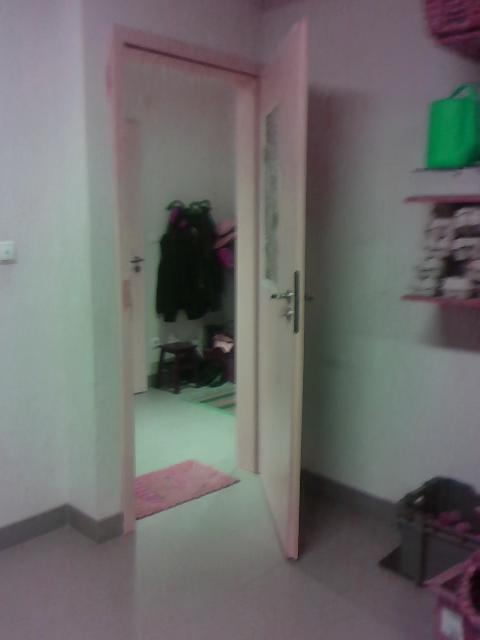open_door: (109, 18, 268, 528)
